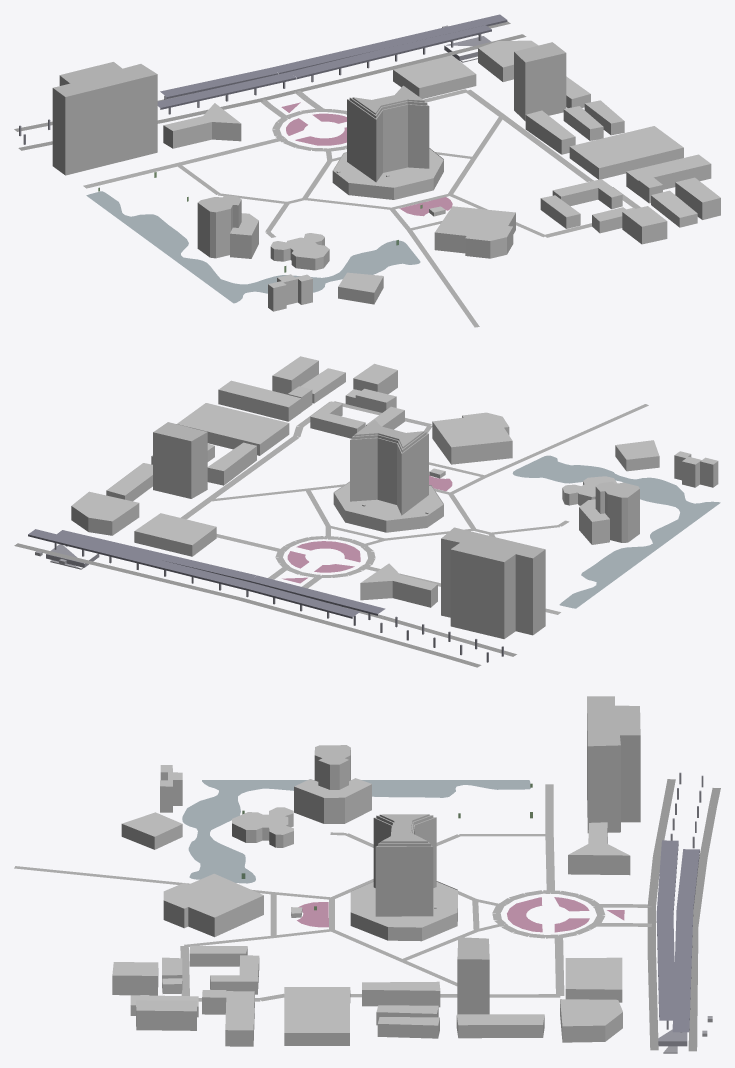
The picture shows the model from 3 angles, top to bottom: view 1: azimuth 30°, elevation 25°; view 2: azimuth 150°, elevation 25°; view 3: azimuth 270°, elevation 25°; orthographic projection. The views are drawn at different scales.
Bounding box in the file's own units: 533 × 98.08 × 589.
